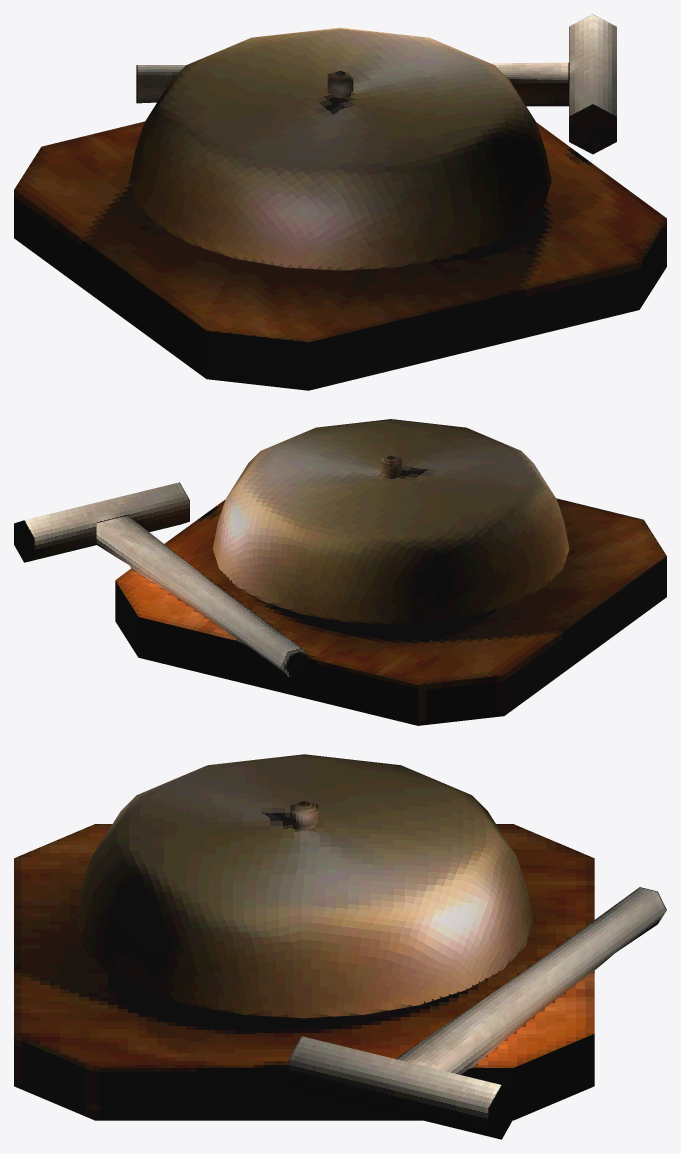
The model's file is ps2_save-icons_wrestlekingdom2prowrestlingsekaitaisen.glb.
3 views of the same model, one above another, from view 1: azimuth 30°, elevation 25°; view 2: azimuth 150°, elevation 25°; view 3: azimuth 270°, elevation 25° (orthographic). The views are drawn at different scales.
Parts seen in each view (by area): view 1: wk.ico; view 2: wk.ico; view 3: wk.ico.
Boxes of the visible parts, left/top/right/bottom form: wk.ico: left=14, top=14, right=666, bottom=390; wk.ico: left=14, top=419, right=666, bottom=725; wk.ico: left=14, top=754, right=666, bottom=1139.
Bounding box in the file's own units: 3.82 × 1.12 × 3.36.
Materials: 1 (1 with a texture image).
